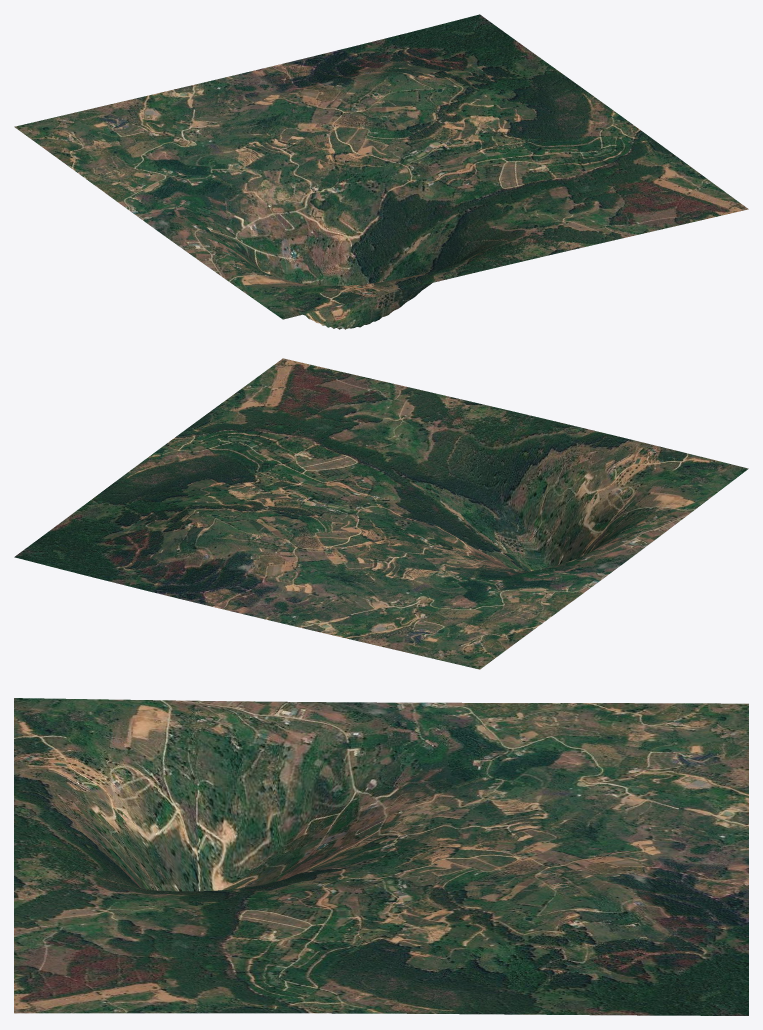
Rendered from terrain_real_T_W04_S04.glb.
The picture shows the model from 3 angles, top to bottom: view 1: azimuth 30°, elevation 25°; view 2: azimuth 150°, elevation 25°; view 3: azimuth 270°, elevation 25°; orthographic projection. The views are drawn at different scales.
Parts seen in each view (by area): view 1: Terrain_Real_DEM_T_W04_S04; view 2: Terrain_Real_DEM_T_W04_S04; view 3: Terrain_Real_DEM_T_W04_S04.
Boxes of the visible parts, <box> form: Terrain_Real_DEM_T_W04_S04: <box>14,14,748,329</box>; Terrain_Real_DEM_T_W04_S04: <box>14,358,748,669</box>; Terrain_Real_DEM_T_W04_S04: <box>14,698,748,1015</box>.
Bounding box in the file's own units: 2000 × 404 × 2000.
Materials: 1 (1 with a texture image).
